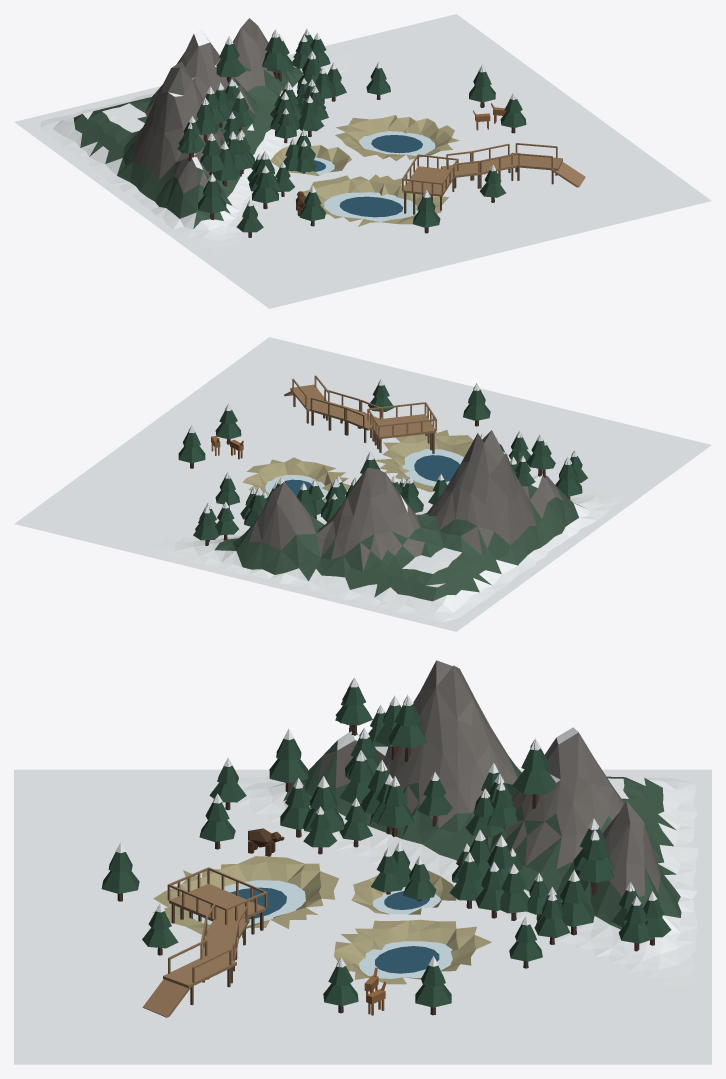
Rendered from shiretoko.glb.
3 renders of one model, top to bottom at view 1: azimuth 30°, elevation 25°; view 2: azimuth 150°, elevation 25°; view 3: azimuth 270°, elevation 25°, orthographic. The views are drawn at different scales.
Parts seen in each view (by area): view 1: shiretoko_snow, shiretoko_fir, shiretoko_rock, shiretoko_forest, shiretoko_reed, shiretoko_deck, shiretoko_ice, shiretoko_water, shiretoko_bark, shiretoko_post; view 2: shiretoko_snow, shiretoko_rock, shiretoko_forest, shiretoko_fir, shiretoko_reed, shiretoko_deck, shiretoko_water, shiretoko_ice, shiretoko_post; view 3: shiretoko_snow, shiretoko_fir, shiretoko_rock, shiretoko_forest, shiretoko_reed, shiretoko_deck, shiretoko_ice, shiretoko_water, shiretoko_bark, shiretoko_bear.
Part boxes in pixels (x1,y1,x2,y2): shiretoko_snow: [14, 14, 711, 308]; shiretoko_fir: [177, 29, 526, 232]; shiretoko_rock: [131, 18, 274, 193]; shiretoko_forest: [74, 64, 303, 228]; shiretoko_reed: [270, 115, 459, 226]; shiretoko_deck: [402, 143, 585, 196]; shiretoko_ice: [301, 131, 435, 221]; shiretoko_water: [307, 135, 422, 217]; shiretoko_bark: [188, 71, 515, 237]; shiretoko_post: [404, 167, 557, 214]; shiretoko_snow: [14, 337, 711, 631]; shiretoko_rock: [249, 430, 563, 571]; shiretoko_forest: [214, 485, 586, 601]; shiretoko_fir: [178, 383, 587, 540]; shiretoko_reed: [242, 430, 473, 513]; shiretoko_deck: [284, 375, 436, 439]; shiretoko_water: [284, 455, 459, 496]; shiretoko_ice: [265, 449, 463, 499]; shiretoko_post: [293, 394, 434, 453]; shiretoko_snow: [14, 677, 711, 1064]; shiretoko_fir: [101, 679, 671, 1007]; shiretoko_rock: [318, 660, 661, 897]; shiretoko_forest: [283, 740, 681, 929]; shiretoko_reed: [152, 856, 491, 984]; shiretoko_deck: [142, 867, 267, 1017]; shiretoko_ice: [193, 880, 452, 978]; shiretoko_water: [230, 887, 439, 973]; shiretoko_bark: [117, 724, 654, 1015]; shiretoko_bear: [248, 828, 284, 856].
Bounding box in the file's own units: 22.4 × 6.17 × 22.4.
